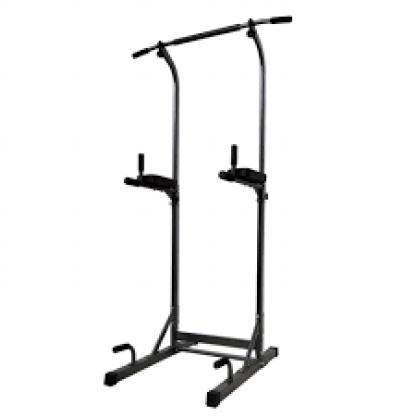chinning dipping: (105, 15, 293, 407)
